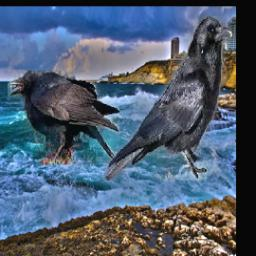Crow: (105, 17, 233, 182), (8, 70, 119, 165)
